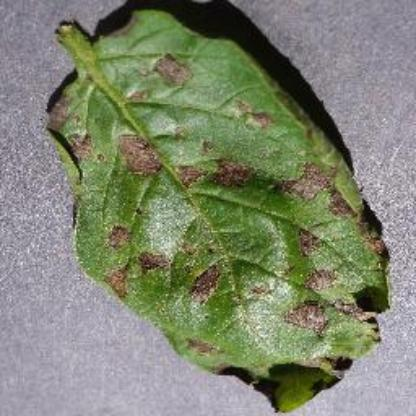Early-Blight: (37, 0, 415, 416)
